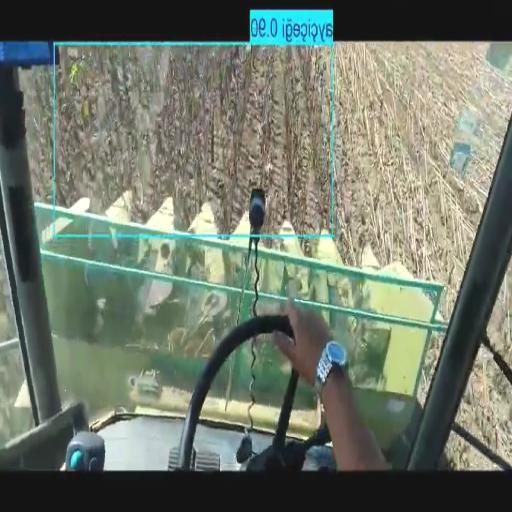ayc: (57, 47, 336, 232)
